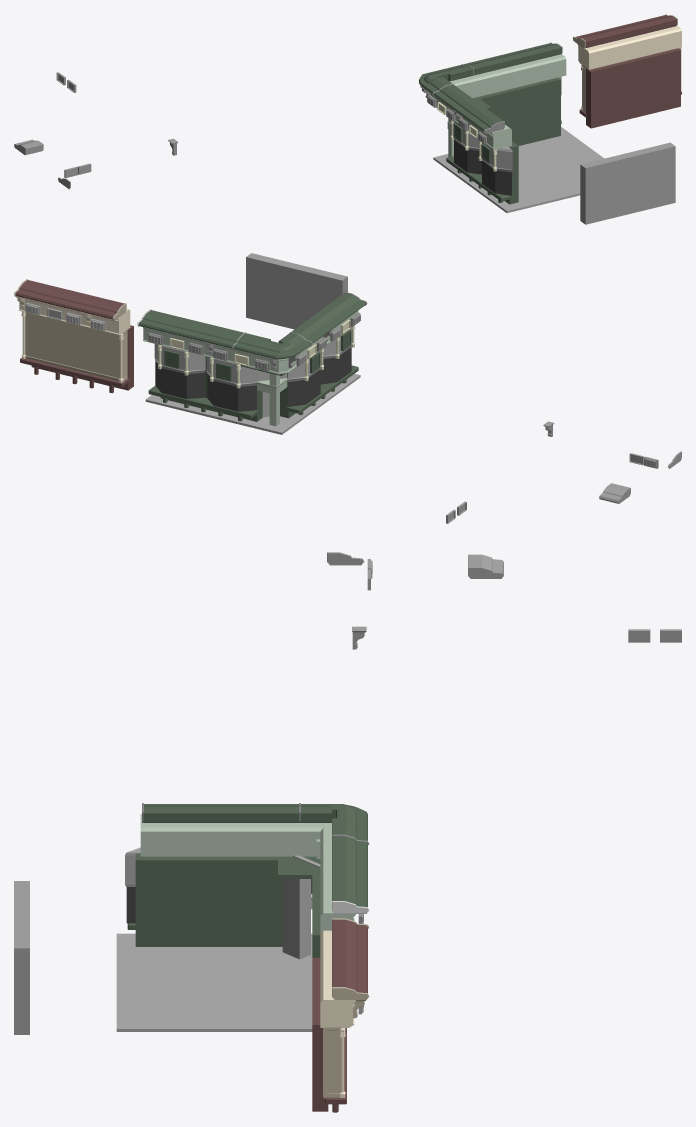
Rendered from modular buildings WIP.fbx.
The picture shows the model from 3 angles, top to bottom: view 1: azimuth 30°, elevation 25°; view 2: azimuth 150°, elevation 25°; view 3: azimuth 270°, elevation 25°; orthographic projection. The views are drawn at different scales.
Visible parts, largest first — view 1: pCube2, pCube125, pCube94, pCube96, pCube101, pCube14, polySurface15, polySurface2, polySurface11, polySurface12, pCube97, polySurface8 (+3 smaller); view 2: pCube2, pCube98, pCube94, pCube24, pCube34, pCube101, polySurface2, pCube14, pCube25, polySurface15, pCube31, pCube29 (+8 smaller); view 3: pCube94, pCube97, polySurface11, pCube2, pCube80, pCube101, pCube125, pCube98, pCube14, pCube90.
Part boxes in pixels (box(x1,y1,x2,y2)): pCube2: box(580, 142, 675, 224); pCube125: box(586, 48, 680, 128); pCube94: box(433, 127, 604, 212); pCube96: box(478, 77, 560, 145); pCube101: box(577, 26, 681, 69); pCube14: box(472, 54, 566, 97); polySurface15: box(482, 160, 511, 195); polySurface2: box(454, 139, 481, 174); polySurface11: box(441, 101, 511, 149); polySurface12: box(482, 143, 512, 172); pCube97: box(505, 141, 518, 204); polySurface8: box(446, 156, 513, 201); pCube2: box(246, 253, 347, 329); pCube98: box(25, 312, 128, 381); pCube94: box(145, 373, 360, 434); pCube24: box(155, 361, 204, 398); pCube34: box(207, 374, 256, 411); pCube101: box(18, 298, 130, 335); polySurface2: box(288, 369, 320, 406); pCube14: box(143, 327, 239, 364); pCube25: box(154, 344, 205, 373); polySurface15: box(320, 347, 351, 384); pCube31: box(206, 356, 257, 386); pCube29: box(148, 385, 258, 418); pCube94: box(116, 933, 312, 1031); pCube97: box(135, 853, 282, 946); polySurface11: box(140, 814, 300, 856); pCube2: box(14, 881, 29, 1034); pCube80: box(282, 879, 310, 959); pCube101: box(320, 930, 355, 1027); pCube125: box(312, 957, 328, 1111); pCube98: box(323, 1027, 341, 1098); pCube14: box(320, 846, 355, 932); pCube90: box(278, 856, 320, 878).
Size of the model in its own units: 33.97 by 4.53 by 20.95.
